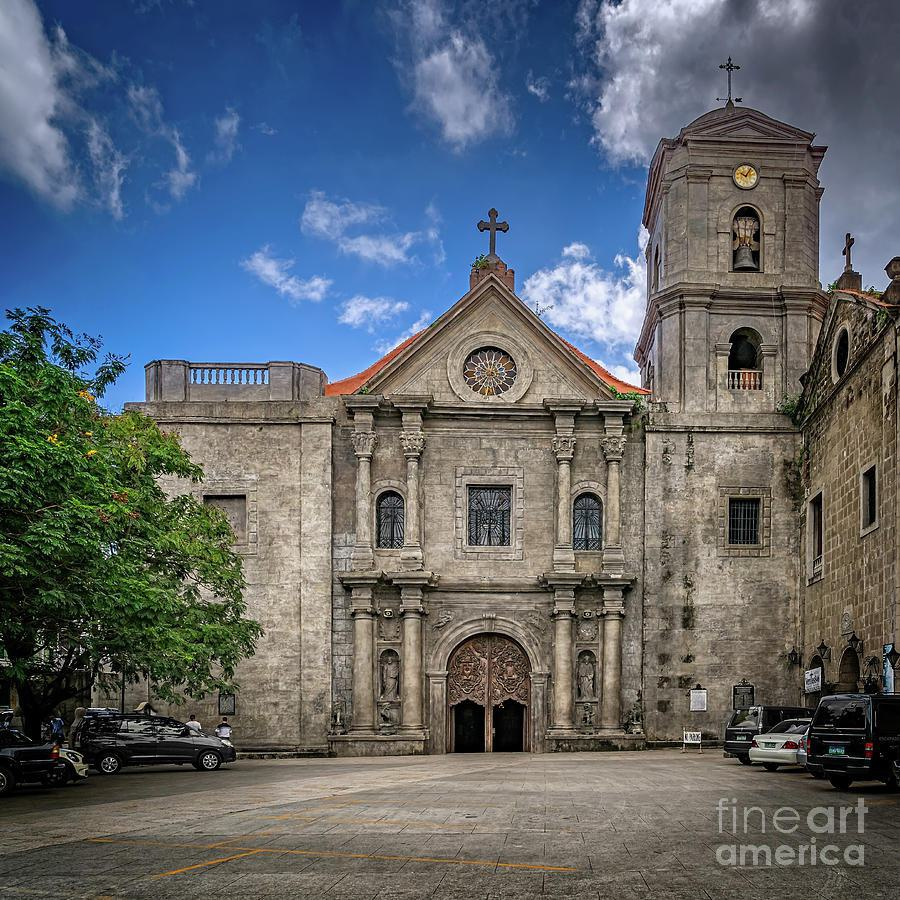san_agustin_church_intramuros_manila: (321, 43, 816, 752)
